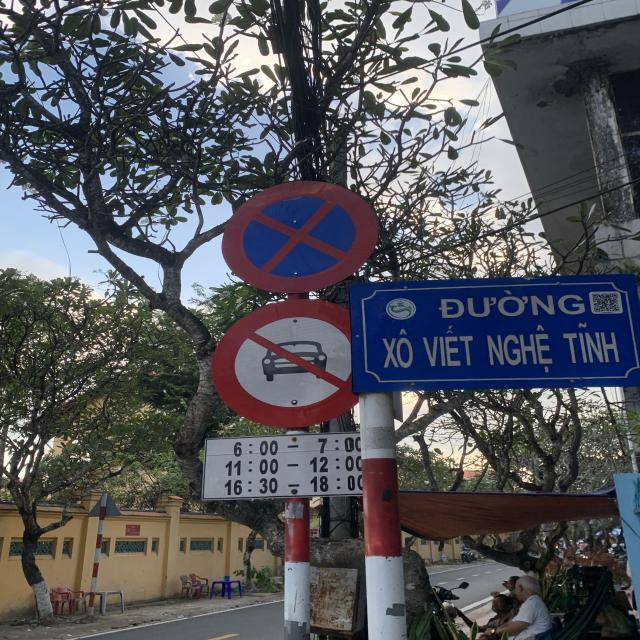Cam_Dung_Va_Dau_Xe: (222, 178, 381, 293)
Cam_O_To: (213, 297, 359, 430)
